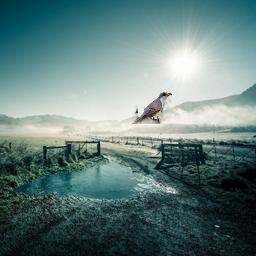Cuckoo: (132, 92, 172, 124)
